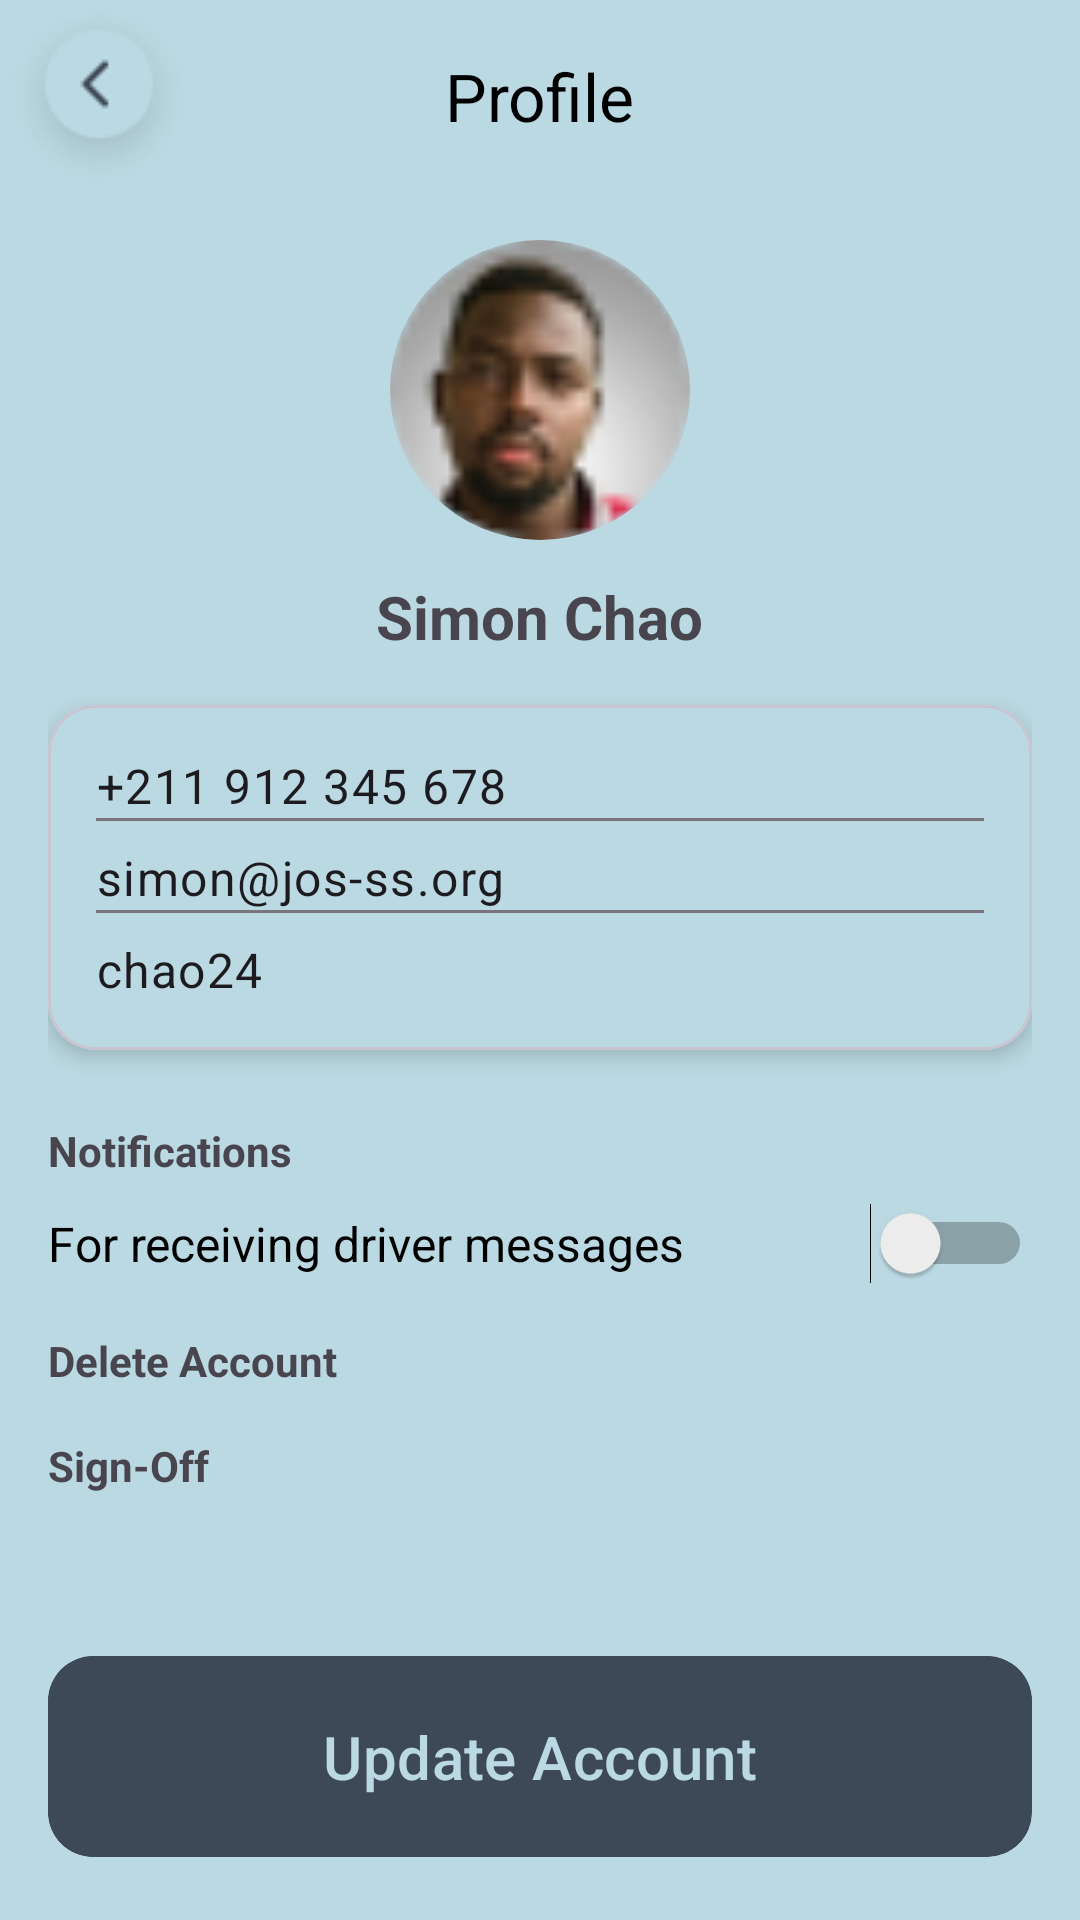

Screen size 1080 × 1920. Icon name, then its center in pixels as (x,y):
user driver: (540,390)
